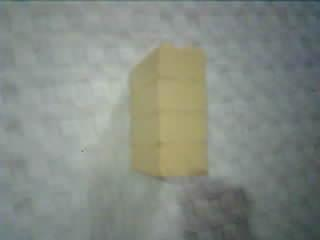lego: (126, 42, 213, 180)
